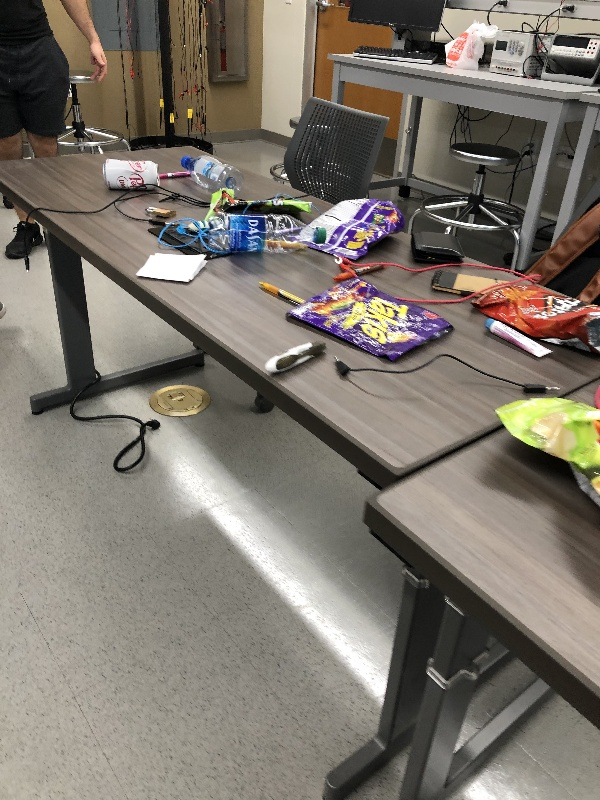bag: (286, 273, 460, 366), (469, 279, 600, 364), (491, 390, 600, 479), (292, 193, 409, 263), (205, 185, 318, 218)
bottle: (197, 211, 329, 263), (175, 151, 247, 195)
can: (97, 154, 165, 196)
